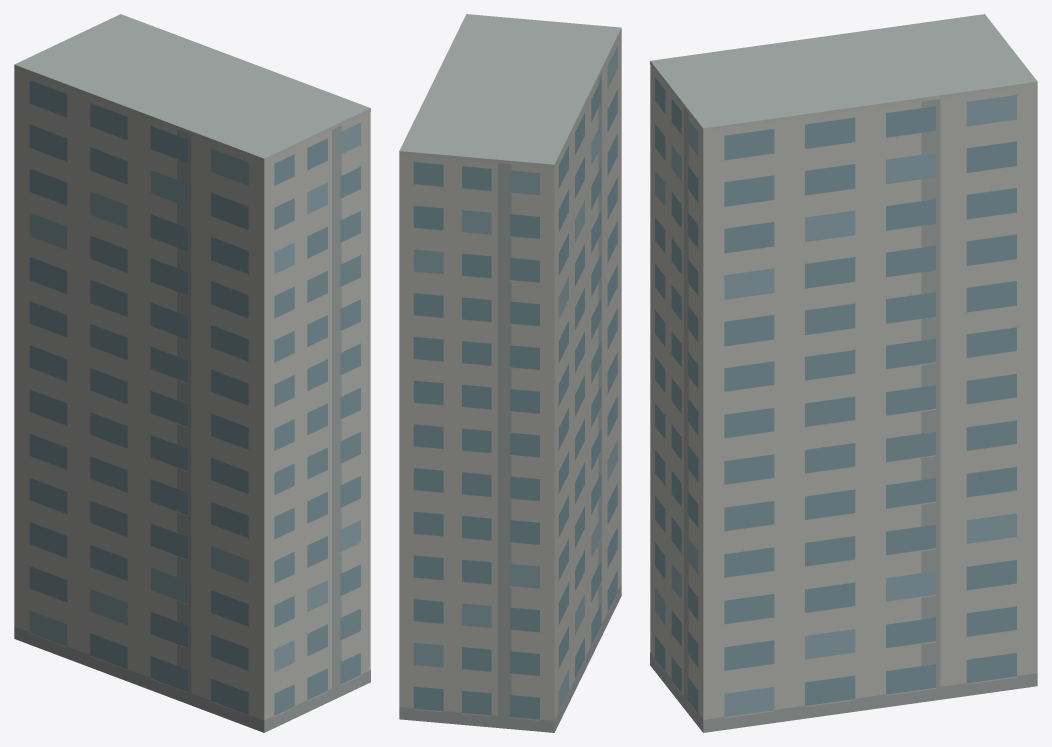
Rendered from residential-814cbb2f-dece-480c-a2cf-20692465cc69.glb.
3 renders of one model, left to right at view 1: azimuth 30°, elevation 25°; view 2: azimuth 150°, elevation 25°; view 3: azimuth 270°, elevation 25°, orthographic. The views are drawn at different scales.
Visible parts, largest first — view 1: residential-814cbb2f-dece-480c-a2cf-20692465cc69.tmp; view 2: residential-814cbb2f-dece-480c-a2cf-20692465cc69.tmp; view 3: residential-814cbb2f-dece-480c-a2cf-20692465cc69.tmp.
Boxes of the visible parts, x1=… form: residential-814cbb2f-dece-480c-a2cf-20692465cc69.tmp: x1=14, y1=14, x2=370, y2=732; residential-814cbb2f-dece-480c-a2cf-20692465cc69.tmp: x1=399, y1=14, x2=621, y2=732; residential-814cbb2f-dece-480c-a2cf-20692465cc69.tmp: x1=650, y1=14, x2=1037, y2=732.
Bounding box in the file's own units: 16.25 × 40 × 23.25.
